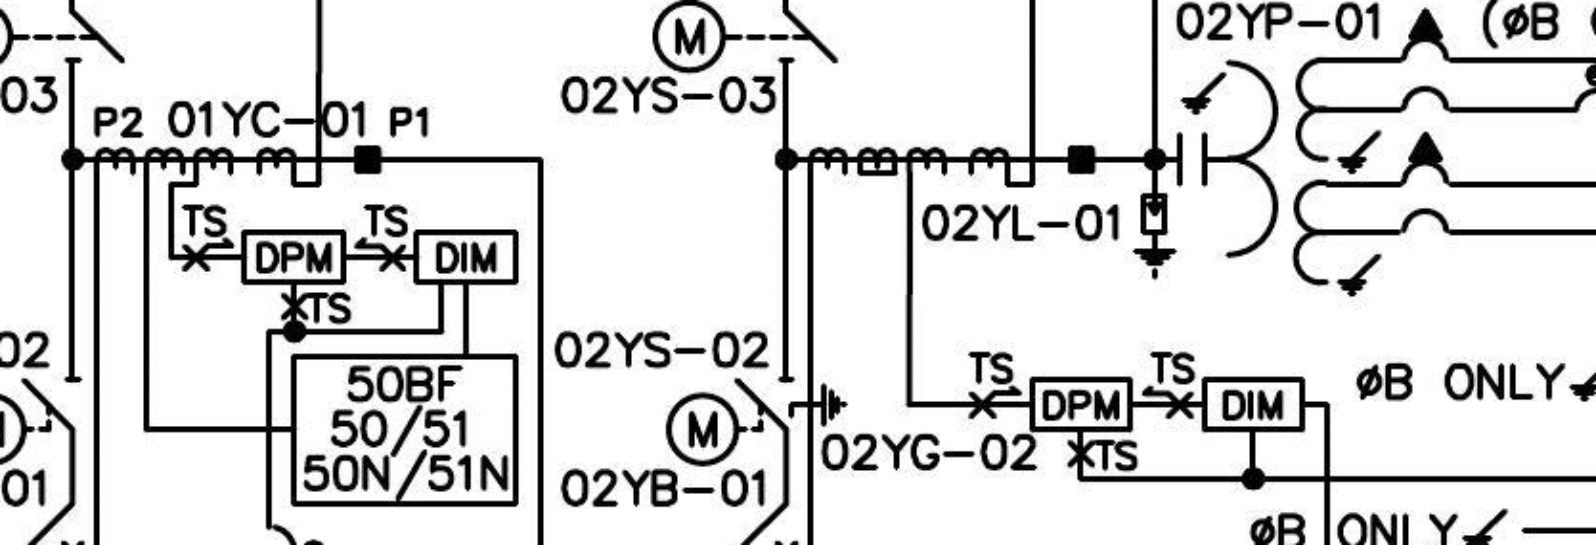115_3ways_ds_w_motor: (665, 376, 850, 469)
115_cvt_1p: (1176, 6, 1455, 298)
115_la: (1132, 193, 1178, 281)
DIM: (412, 229, 520, 285), (1201, 376, 1306, 433)
DPM: (240, 229, 347, 286), (1029, 376, 1133, 433)
